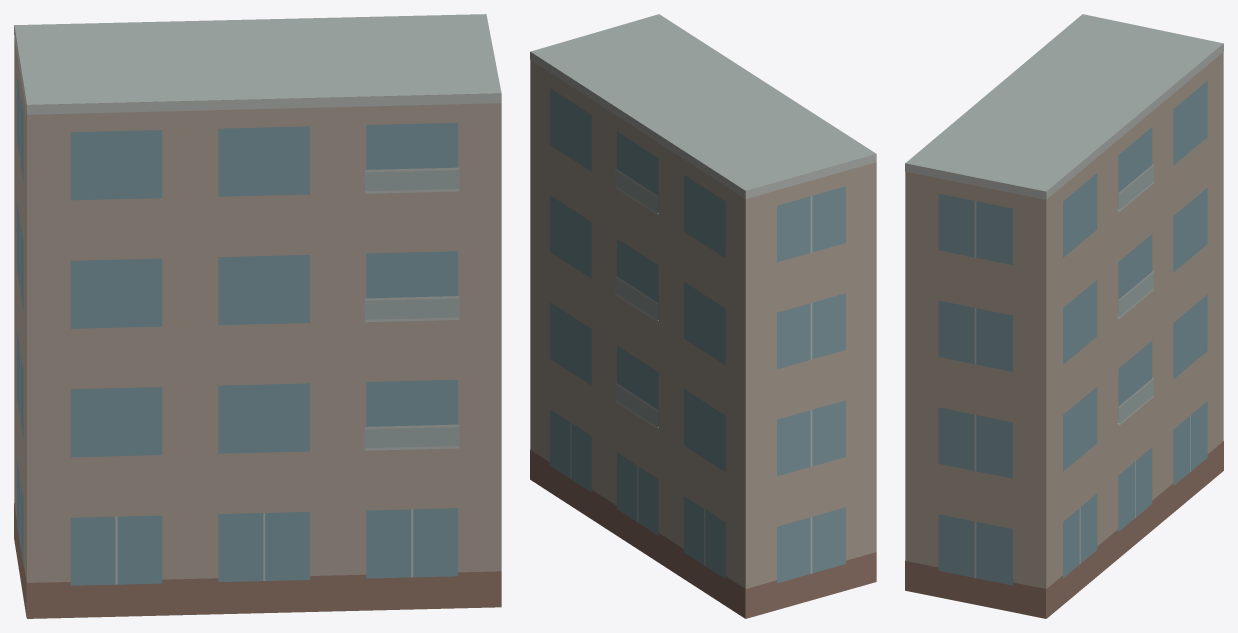
Rendered from survey-upis-33010004.glb.
3 views of the same model, side by side, from view 1: azimuth 30°, elevation 25°; view 2: azimuth 150°, elevation 25°; view 3: azimuth 270°, elevation 25° (orthographic). The views are drawn at different scales.
Parts seen in each view (by area): view 1: survey-upis-33010004.tmp; view 2: survey-upis-33010004.tmp; view 3: survey-upis-33010004.tmp.
Part boxes in pixels (x1,y1,x2,y2): survey-upis-33010004.tmp: (14, 14, 501, 618); survey-upis-33010004.tmp: (530, 14, 876, 618); survey-upis-33010004.tmp: (905, 14, 1223, 618).
Size of the model in its own units: 11.28 by 12.65 by 8.56.
